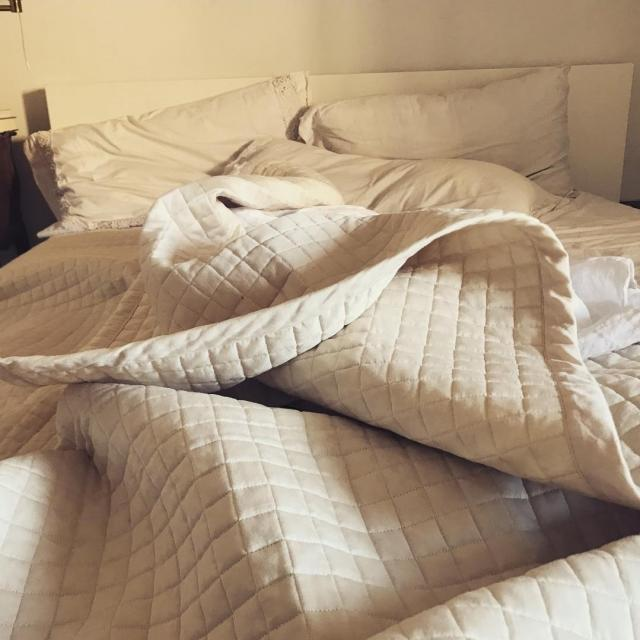bed: (31, 88, 640, 640)
